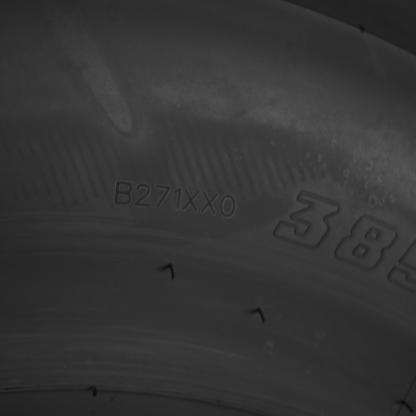ocr: (112, 179, 236, 219)
